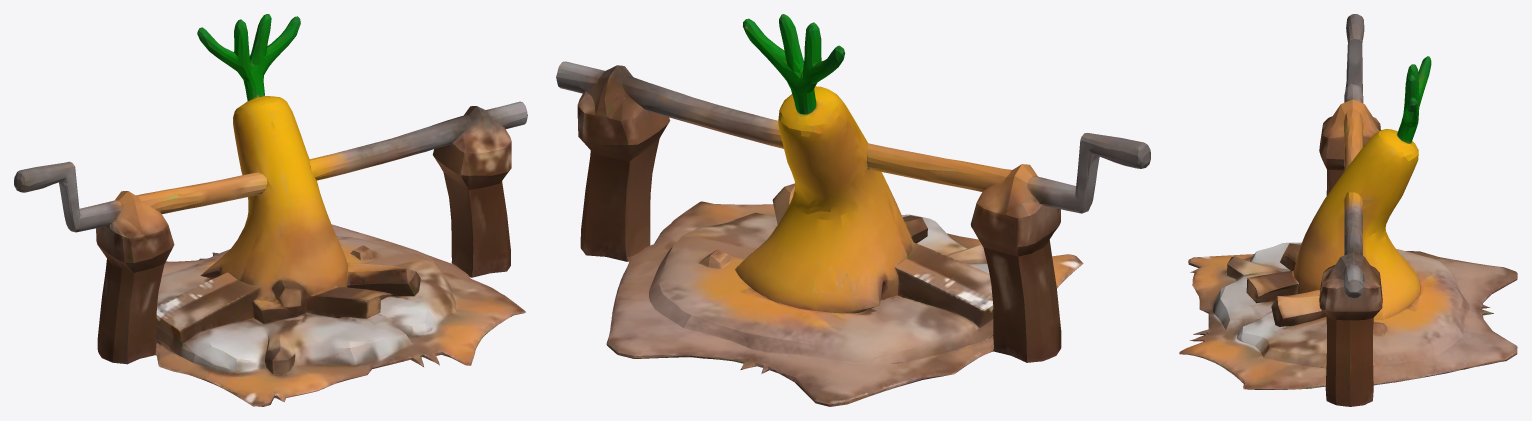
Rendered from army-camp-3.glb.
The picture shows the model from 3 angles, left to right: view 1: azimuth 30°, elevation 25°; view 2: azimuth 150°, elevation 25°; view 3: azimuth 270°, elevation 25°; orthographic projection. The views are drawn at different scales.
Visible parts, largest first — view 1: model; view 2: model; view 3: model.
Boxes of the visible parts, <box> form: model: <box>14,14,527,406</box>; model: <box>556,14,1150,406</box>; model: <box>1179,14,1517,406</box>.
Bounding box in the file's own units: 1.9 × 0.9796 × 1.22.
Materials: 1 (1 with a texture image).
